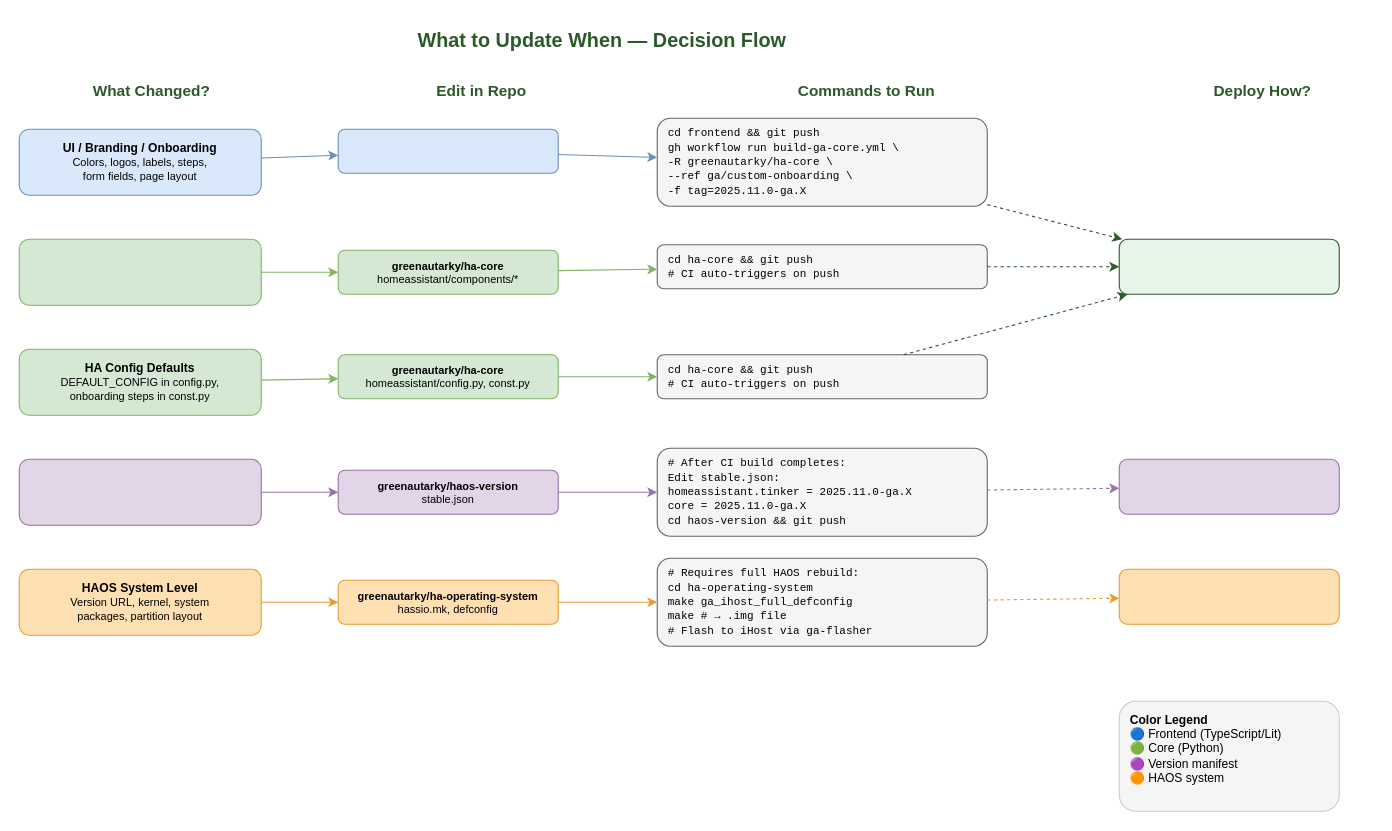
Image size: 1392x831. Some labels were removed from this diagram. Here are the shapes that lost their labels. From the top down, the box of each, then its label:
(337, 128, 558, 173): greenautarky/frontend src/onboarding/*.ts
(18, 238, 261, 305): Backend Component greenautarky_telemetry, onboarding views, manifest, WS API
(1118, 238, 1339, 294): OTA (docker pull + rebuild) ~5 min on device
(18, 458, 261, 525): Release New Version Tag a stable release for production devices
(1118, 458, 1339, 514): Auto-update (Supervisor) Next update check cycle
(1118, 568, 1339, 624): Flash (full HAOS image) ~30 min via ga-flasher
